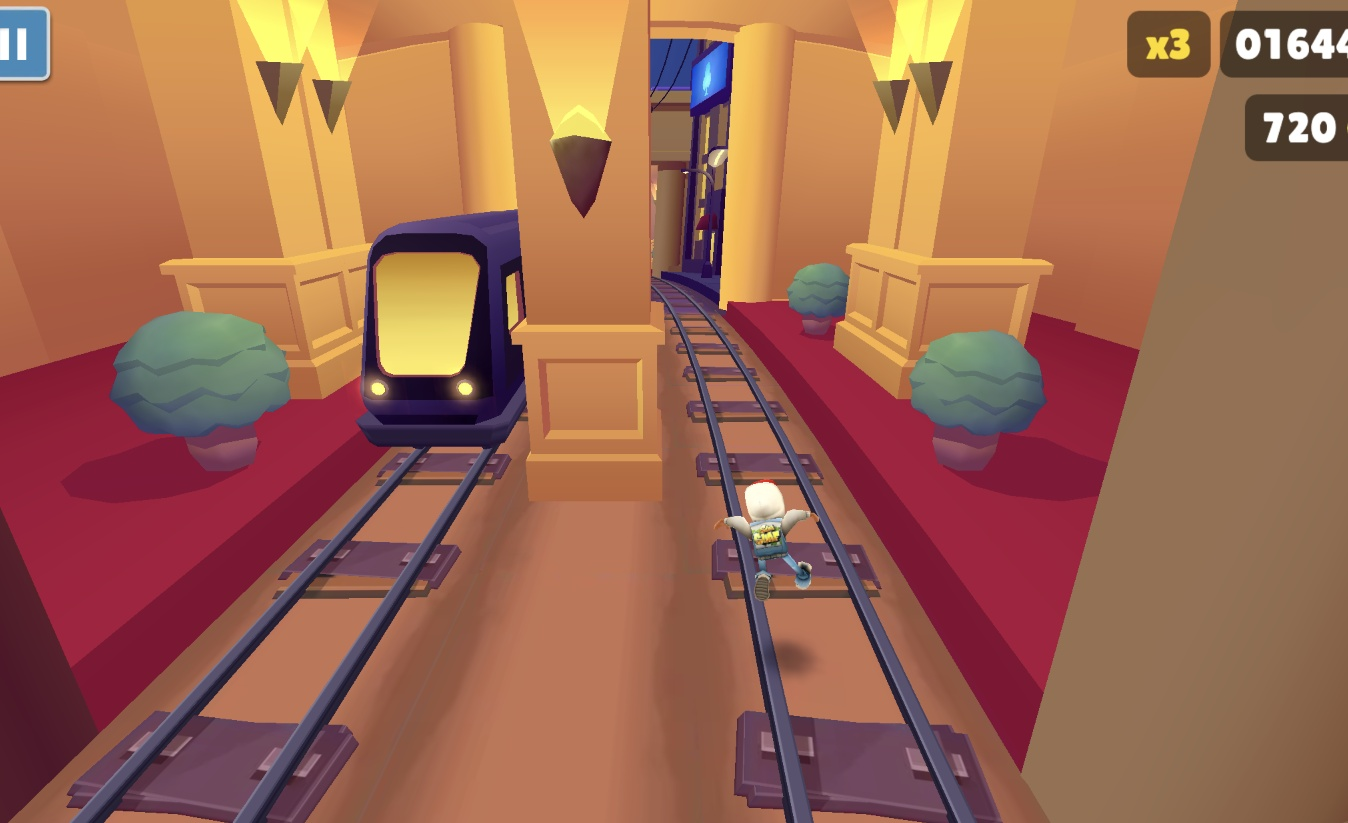pillar: (546, 0, 755, 600)
train: (361, 217, 526, 453)
